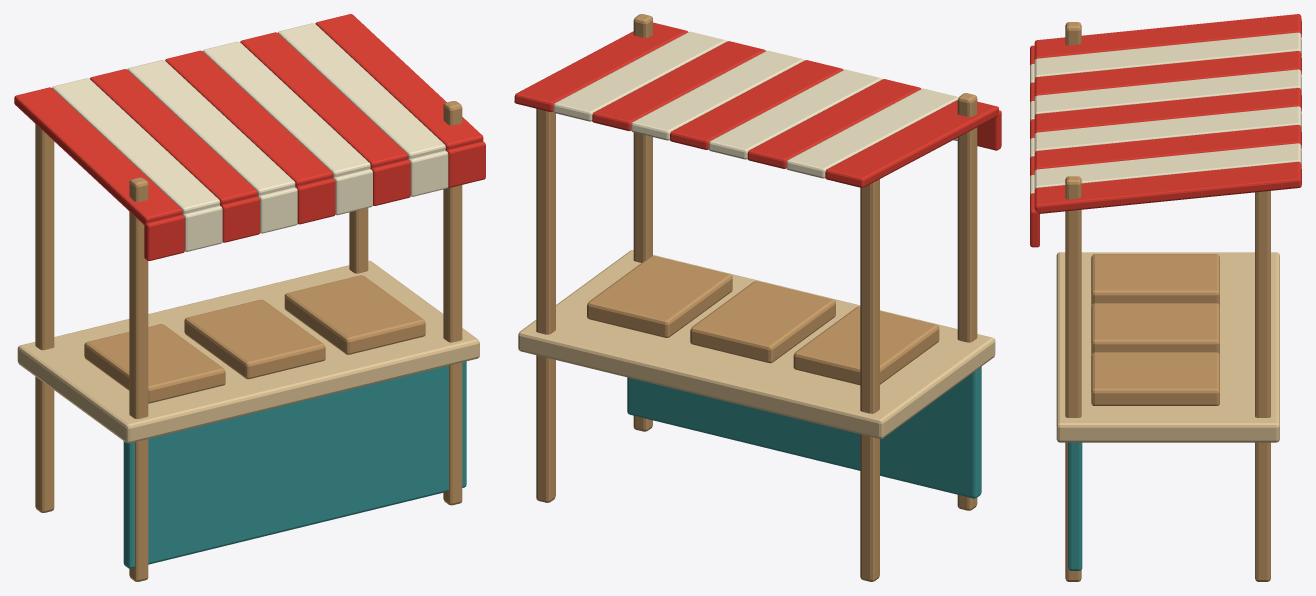
File: S055_market_stall.glb
3 renders of one model, left to right at view 1: azimuth 30°, elevation 25°; view 2: azimuth 150°, elevation 25°; view 3: azimuth 270°, elevation 25°, orthographic. The views are drawn at different scales.
Parts seen in each view (by area): view 1: front_skirt, stall_counter, display_tray.002, display_tray.001, stall_post.001, canvas_roof_stripe, stall_post, canvas_roof_stripe.003, canvas_roof_stripe.001, canvas_roof_stripe.002, canvas_roof_stripe.006, canvas_roof_stripe.004 (+15 smaller); view 2: stall_counter, front_skirt, display_tray.001, display_tray.002, stall_post.001, stall_post.003, display_tray, canvas_roof_stripe, stall_post, canvas_roof_stripe.007, canvas_roof_stripe.002, canvas_roof_stripe.003 (+7 smaller); view 3: stall_counter, canvas_roof_stripe.008, display_tray.002, display_tray, display_tray.001, stall_post.003, canvas_roof_stripe.003, canvas_roof_stripe.006, canvas_roof_stripe.004, canvas_roof_stripe.002, canvas_roof_stripe.001, canvas_roof_stripe.005 (+6 smaller).
Boxes of the visible parts, box(x1,y1,x2,y2) form: front_skirt: box(123, 361, 466, 568); stall_counter: box(17, 260, 479, 443); display_tray.002: box(284, 275, 425, 354); display_tray.001: box(184, 299, 325, 379); stall_post.001: box(35, 124, 54, 512); canvas_roof_stripe: box(14, 87, 182, 224); stall_post: box(129, 177, 148, 581); canvas_roof_stripe.003: box(127, 60, 295, 196); canvas_roof_stripe.001: box(52, 78, 220, 214); canvas_roof_stripe.002: box(90, 69, 257, 205); canvas_roof_stripe.006: box(240, 32, 408, 168); canvas_roof_stripe.004: box(165, 50, 332, 187); stall_counter: box(518, 250, 995, 438); front_skirt: box(627, 366, 981, 498); display_tray.001: box(690, 281, 835, 363); display_tray.002: box(587, 256, 732, 337); stall_post.001: box(860, 179, 879, 581); stall_post.003: box(536, 108, 555, 502); display_tray: box(793, 306, 939, 385); canvas_roof_stripe: box(825, 100, 998, 187); stall_post: box(957, 93, 977, 510); canvas_roof_stripe.007: box(553, 31, 726, 121); canvas_roof_stripe.002: box(747, 79, 920, 168); canvas_roof_stripe.003: box(708, 69, 882, 159); stall_counter: box(1056, 252, 1279, 442); canvas_roof_stripe.008: box(1034, 161, 1301, 213); display_tray.002: box(1091, 352, 1219, 405); display_tray: box(1091, 254, 1219, 305); display_tray.001: box(1091, 303, 1219, 354); stall_post.003: box(1255, 191, 1270, 581); canvas_roof_stripe.003: box(1034, 69, 1301, 115); canvas_roof_stripe.006: box(1034, 125, 1301, 170); canvas_roof_stripe.004: box(1034, 88, 1301, 133); canvas_roof_stripe.002: box(1034, 51, 1301, 96); canvas_roof_stripe.001: box(1034, 32, 1301, 78); canvas_roof_stripe.005: box(1034, 106, 1301, 152).
Size of the model in its own units: 2.3 by 2.51 by 1.52.
